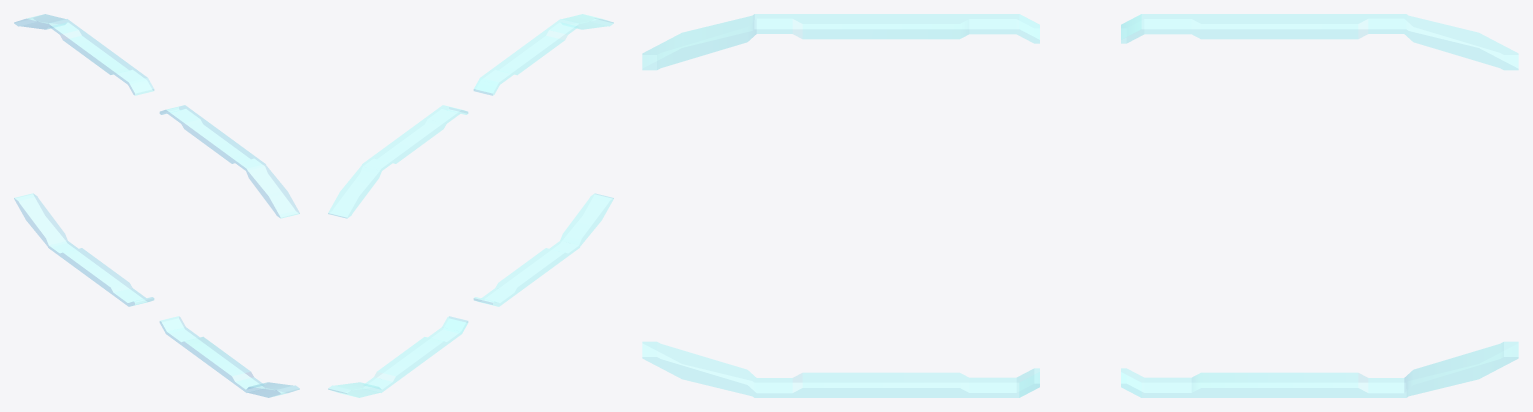
Rendered from ui_border.gltf.
The picture shows the model from 3 angles, left to right: view 1: azimuth 30°, elevation 25°; view 2: azimuth 150°, elevation 25°; view 3: azimuth 270°, elevation 25°; orthographic projection. The views are drawn at different scales.
Parts seen in each view (by area): view 1: uiBorder; view 2: uiBorder; view 3: uiBorder.
Part boxes in pixels (x1,y1,x2,y2): uiBorder: (14, 14, 299, 397); uiBorder: (328, 14, 613, 397); uiBorder: (642, 14, 1518, 397).
Size of the model in its own units: 0.0828 by 0.9286 by 2.
